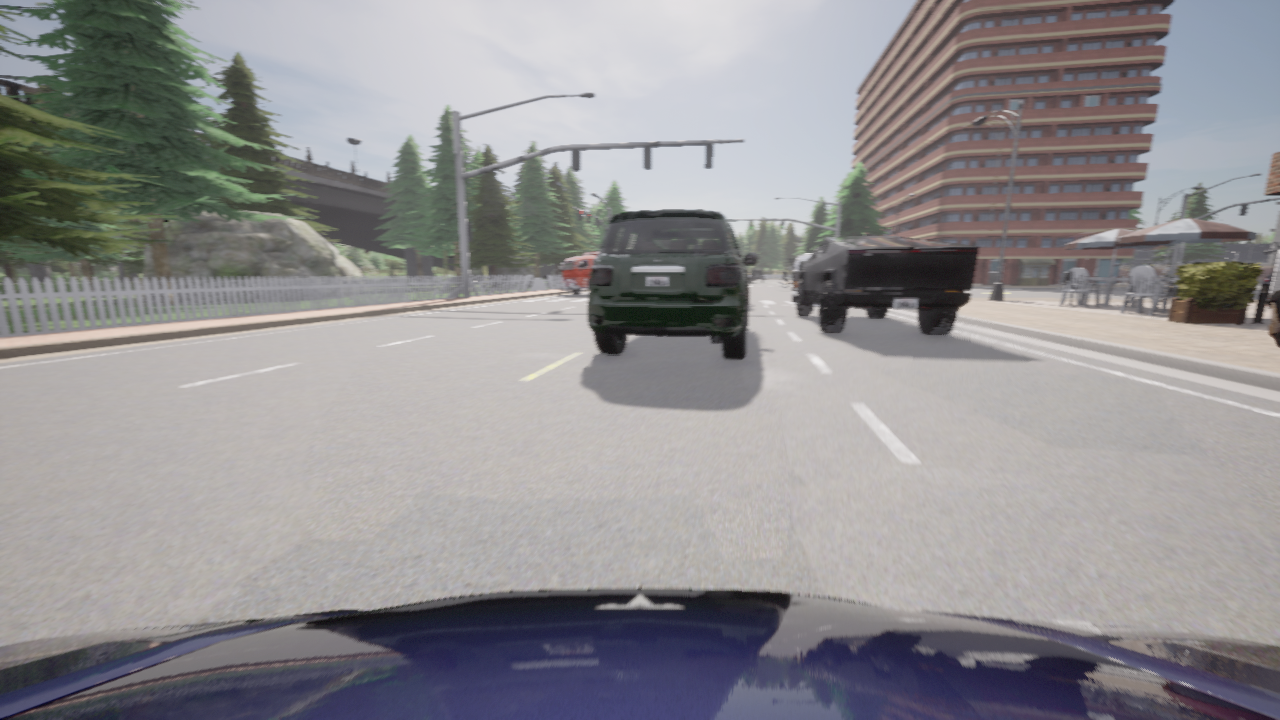cyclist: (0, 588, 1279, 719), (588, 210, 757, 358), (795, 236, 978, 335), (560, 251, 598, 294), (789, 254, 811, 302), (1266, 291, 1279, 347), (1263, 271, 1274, 296), (776, 276, 791, 290), (750, 269, 763, 282)
